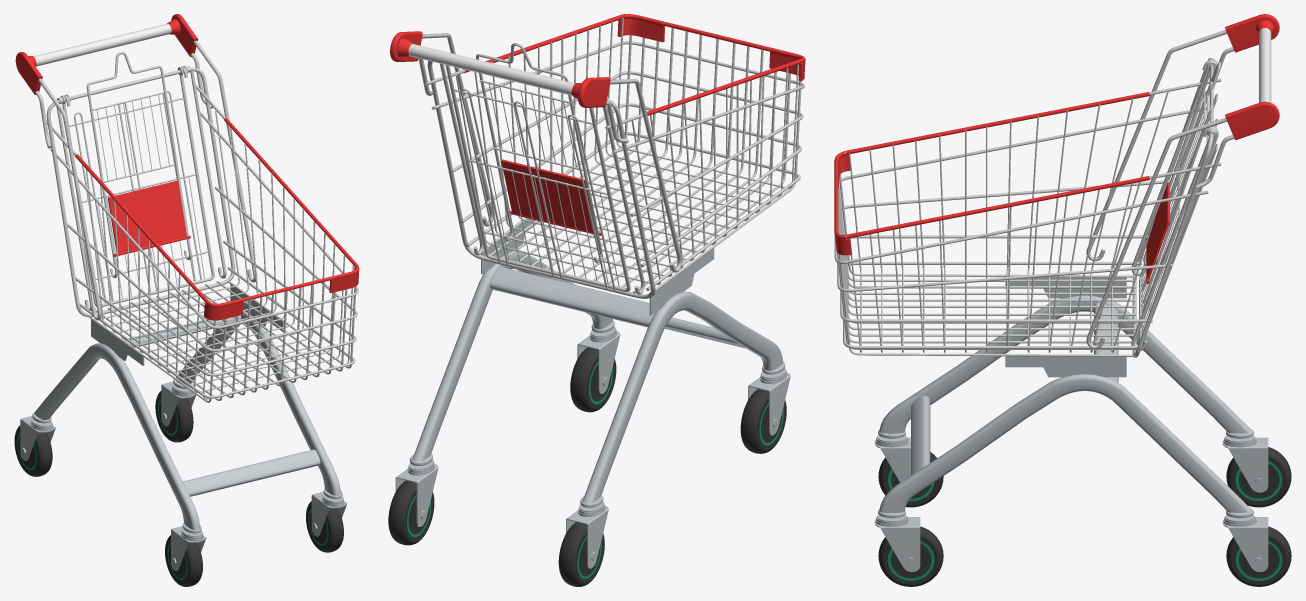
The model's file is trolley.glb.
3 views of the same model, side by side, from view 1: azimuth 30°, elevation 25°; view 2: azimuth 150°, elevation 25°; view 3: azimuth 270°, elevation 25° (orthographic). The views are drawn at different scales.
Visible parts, largest first — view 1: polySurface94_2; view 2: polySurface94_2; view 3: polySurface94_2.
Boxes of the visible parts, <box> form: polySurface94_2: <box>14,14,359,586</box>; polySurface94_2: <box>388,14,805,586</box>; polySurface94_2: <box>834,14,1291,586</box>.
Size of the model in its own units: 0.4333 by 1.05 by 0.8965.
1 material, 1 textured.
